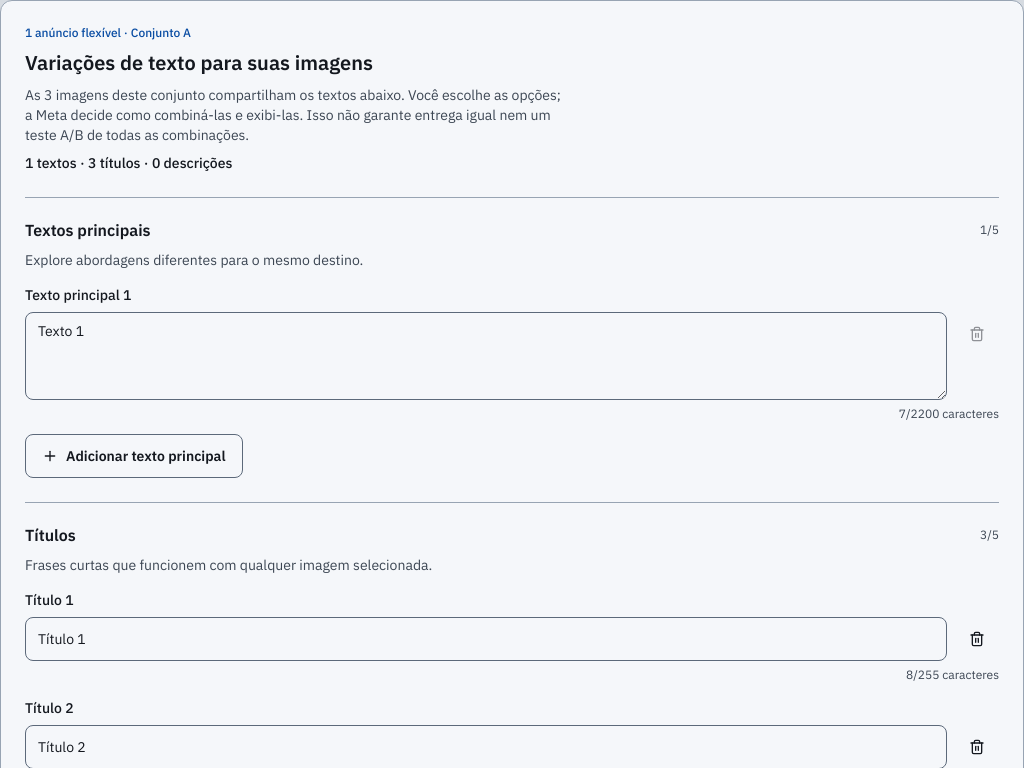
Test: remover opção foca o campo seguinte no mesmo grupo
Click the button named "Remover título 1".
click(977, 639)  # box [955,617,999,661]
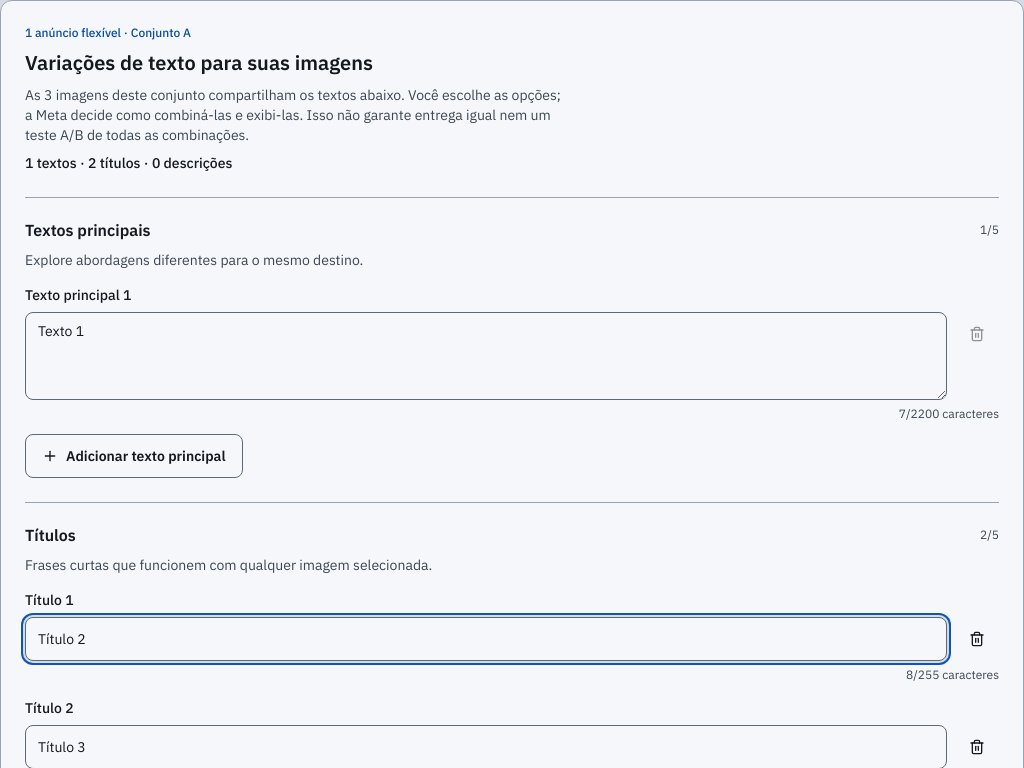
Expected: the field labelled "Título 1" holds "Título 2", [25,617,947,661]
